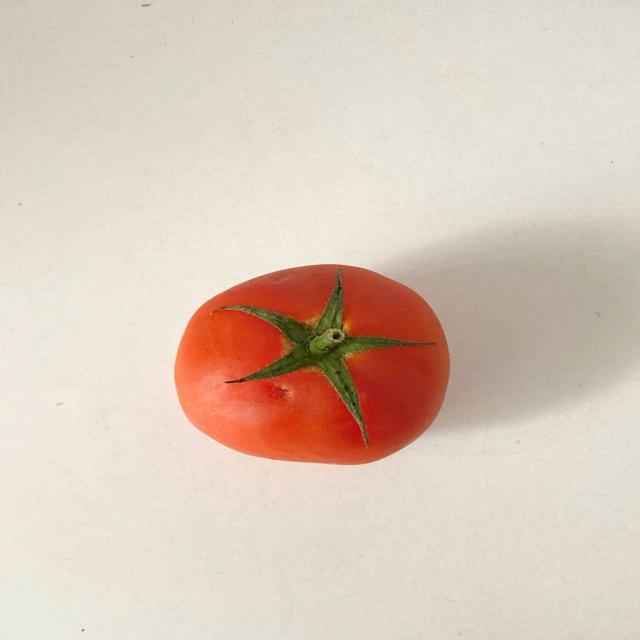tomato: (175, 265, 448, 463)
